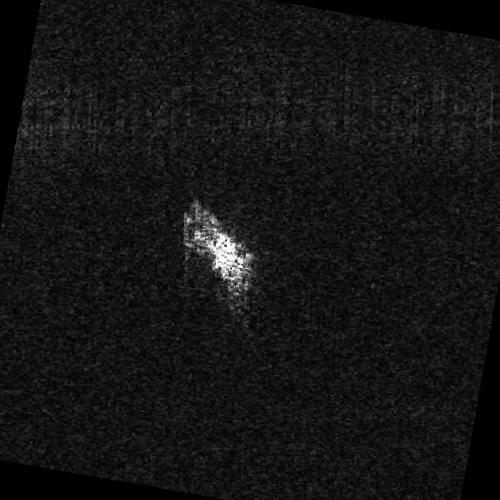ship: (181, 203, 245, 280)
